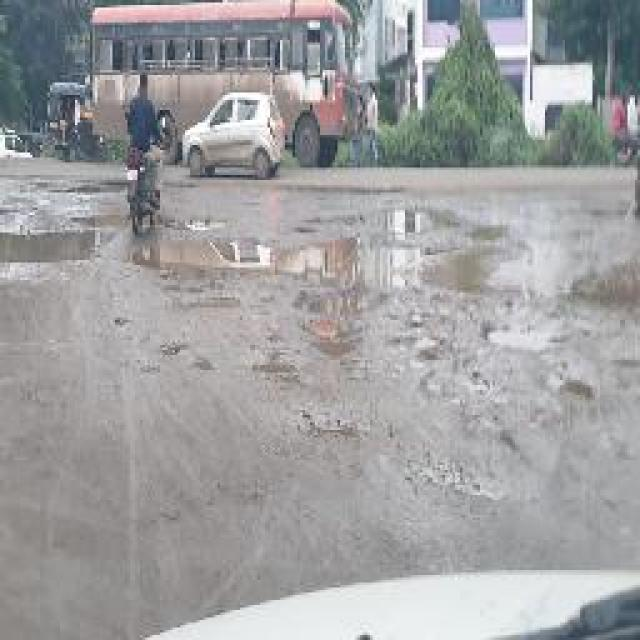stagnation: (130, 210, 382, 292), (3, 222, 126, 269)
